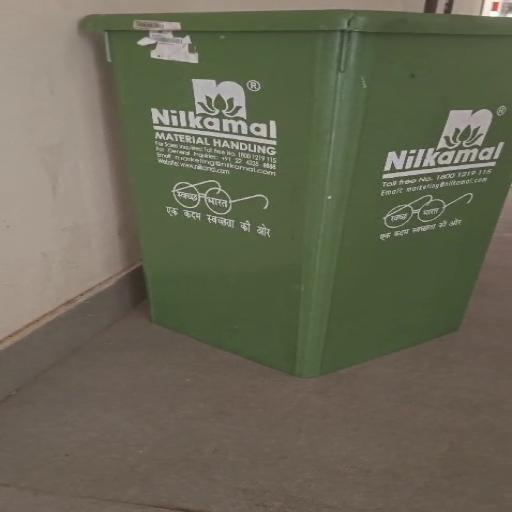Nilkamal-dustbin-detection: (85, 10, 511, 375)
